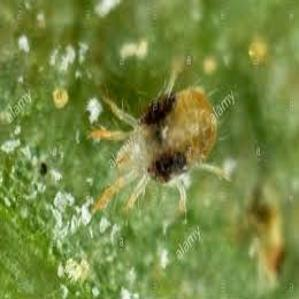spider mite: (80, 64, 234, 232)
